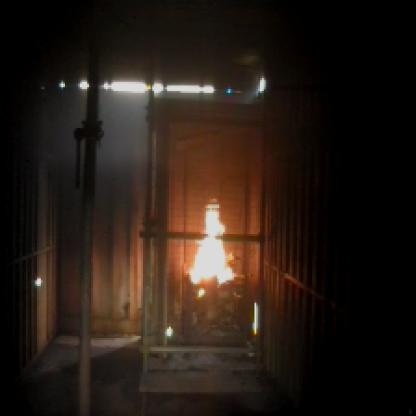Fire: (189, 202, 234, 296)
